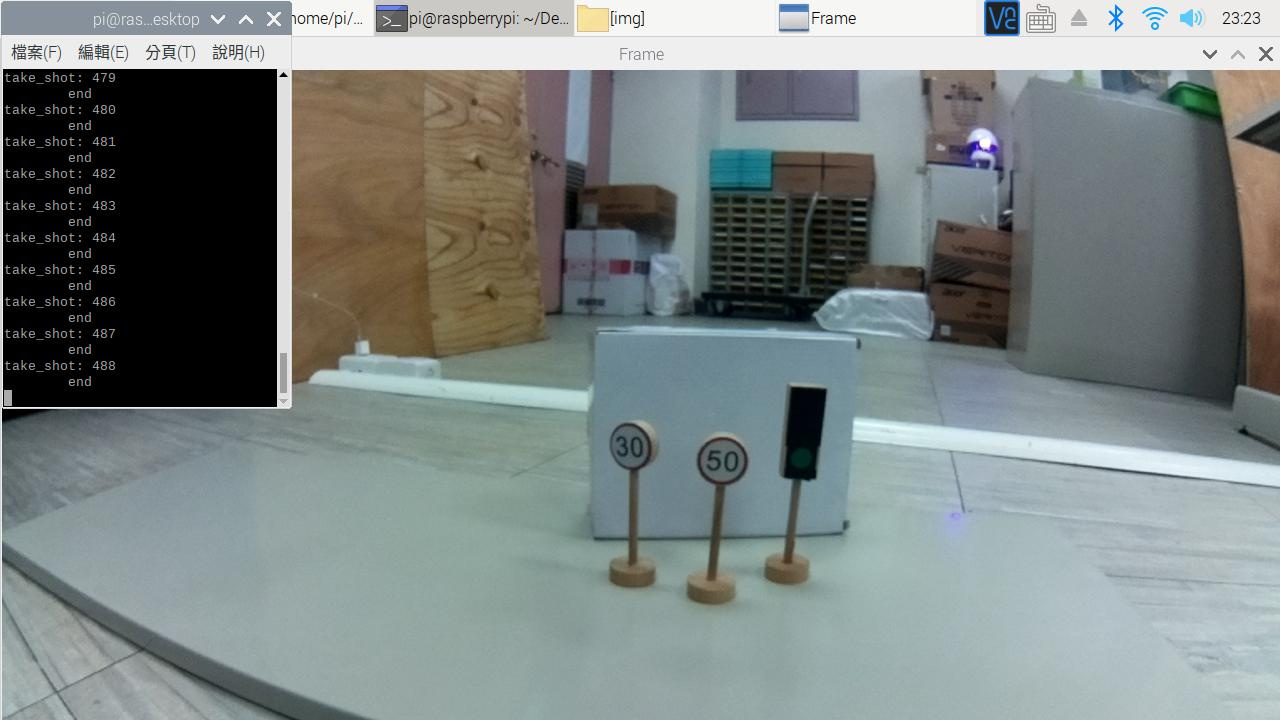Green: (777, 370, 827, 496)
Speed30: (604, 413, 664, 477)
Speed50: (692, 422, 751, 492)
